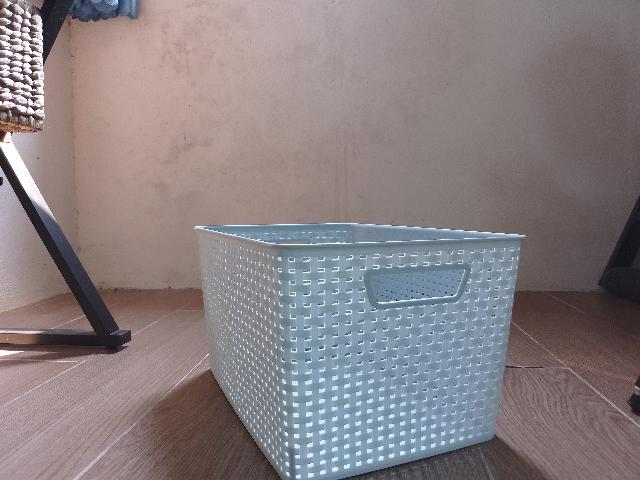cart: (194, 224, 525, 480)
